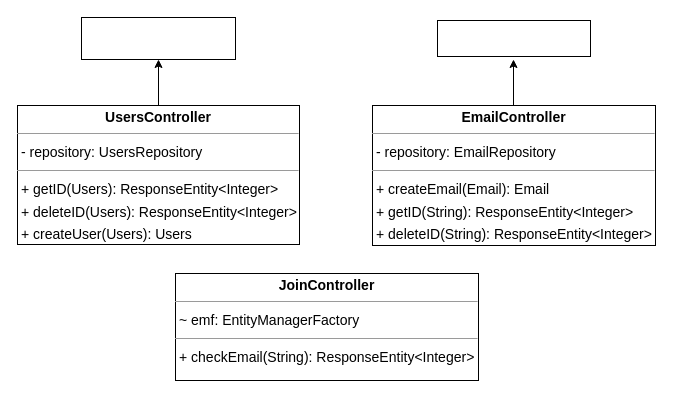
The diagram is 673 pixels wide and 398 high, and some of its shapes have lost their labels. Each missing label, with the box of its shape:
<<interface>> EmailRepository: (436, 20, 590, 56)
<<interface>> UsersRepository: (80, 16, 236, 60)
